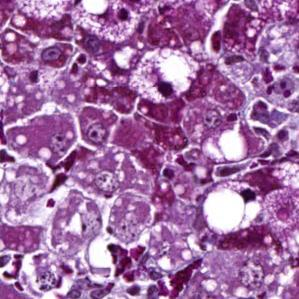ballooning: (125, 45, 200, 108), (199, 184, 266, 241)
